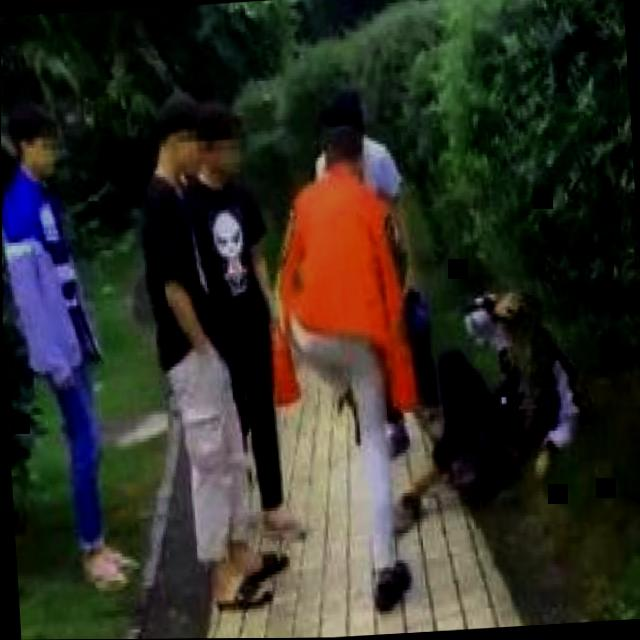Fall-Detected: (395, 263, 596, 504)
